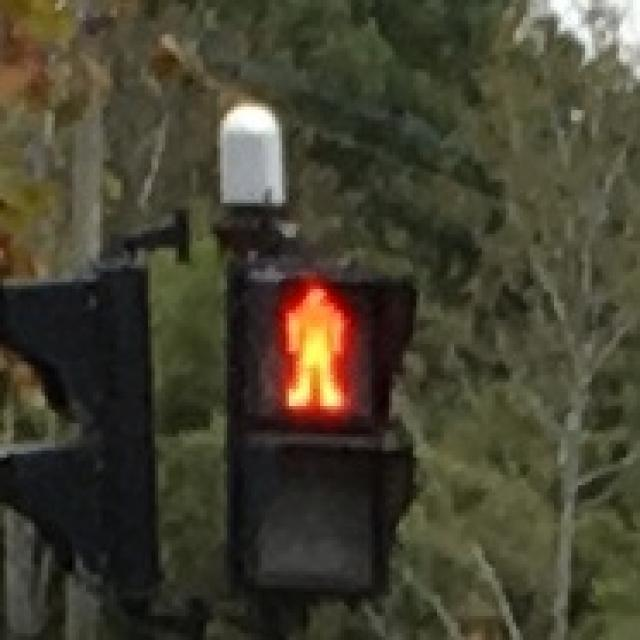red-crossing: (260, 276, 363, 422)
